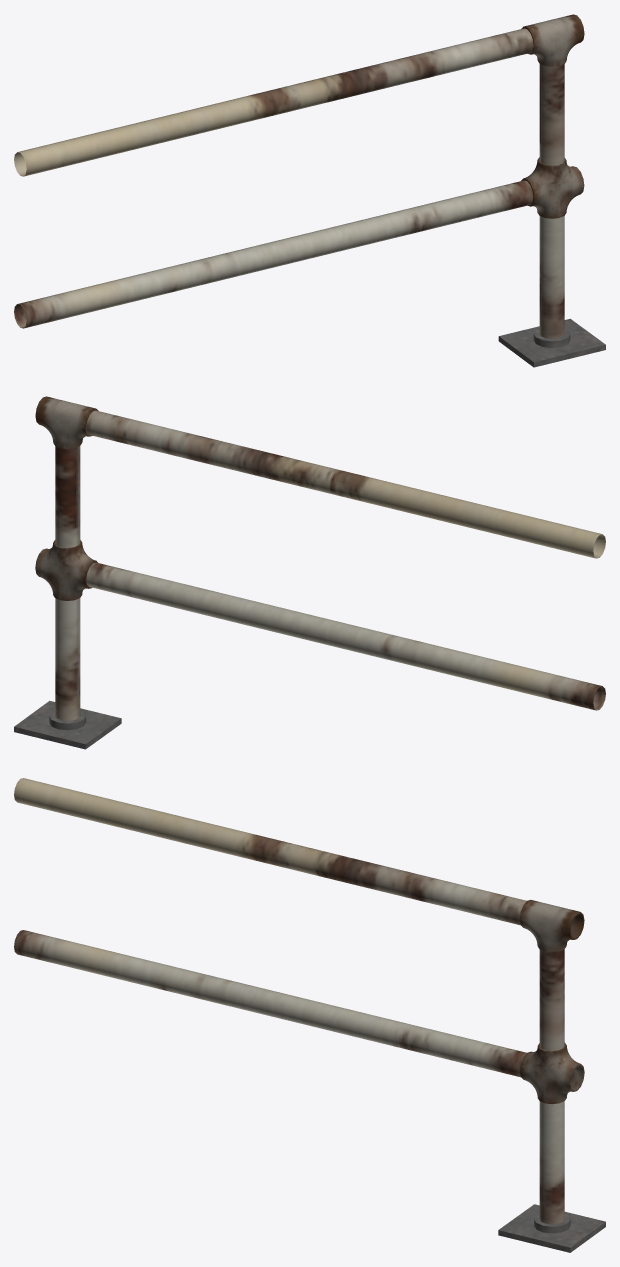
Rendered from metal_fence_middle.fbx.
3 views of the same model, one above another, from view 1: azimuth 30°, elevation 25°; view 2: azimuth 150°, elevation 25°; view 3: azimuth 330°, elevation 25° (orthographic).
Visible parts, largest first — view 1: metal_fence_middle; view 2: metal_fence_middle; view 3: metal_fence_middle.
Part boxes in pixels (box(x1,y1,x2,y2)): metal_fence_middle: box(14, 14, 605, 367); metal_fence_middle: box(14, 396, 605, 749); metal_fence_middle: box(14, 778, 605, 1252).
Size of the model in its own units: 214 by 117 by 23.17.
